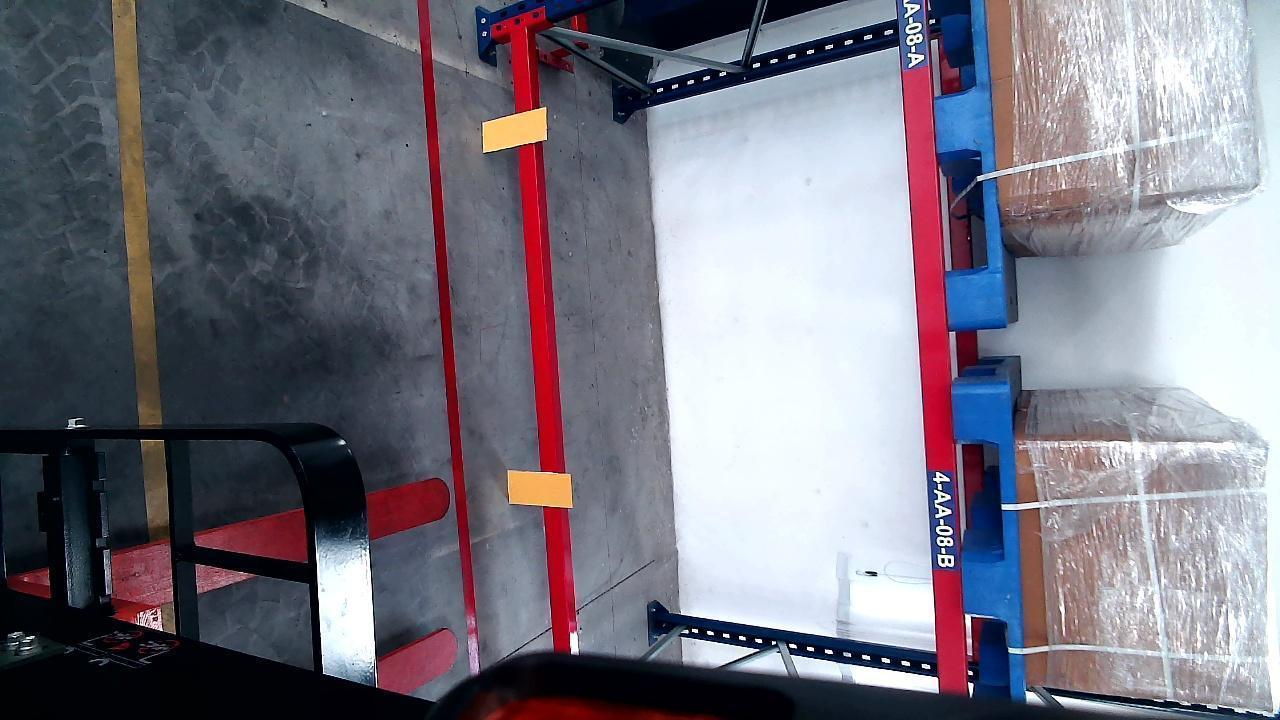red_line: (416, 1, 487, 673)
yellow_line: (106, 0, 170, 528)
